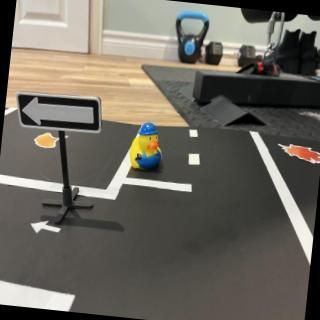duck_specialty: (129, 121, 166, 172)
road_oneway: (28, 216, 65, 240)
sign_oneway_left: (14, 89, 105, 137)
